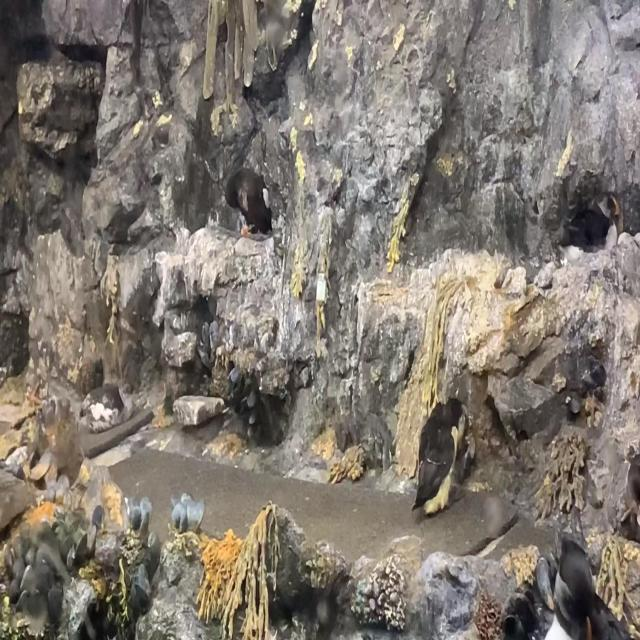puffin: (542, 540, 621, 640), (410, 394, 470, 521), (225, 165, 274, 237), (565, 190, 620, 248)
